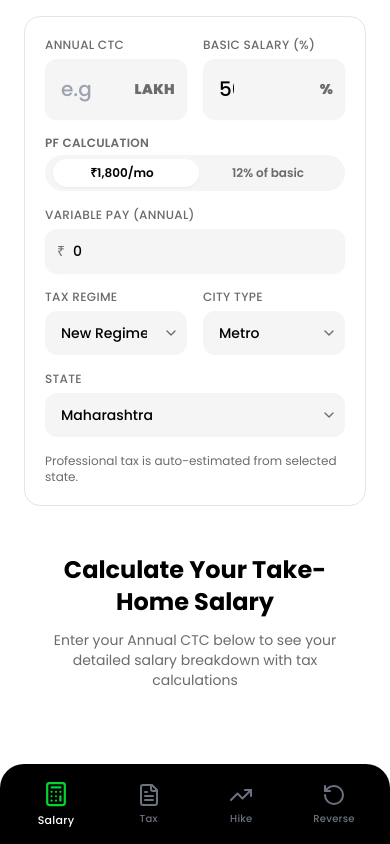
Test: App cross-tab CTC sync › propagates CTC changes from Salary tab to Tax tab and back
Type "12" into the field labelled "Annual CTC" at {"x": 116, "y": 89}, box [45, 59, 187, 119]
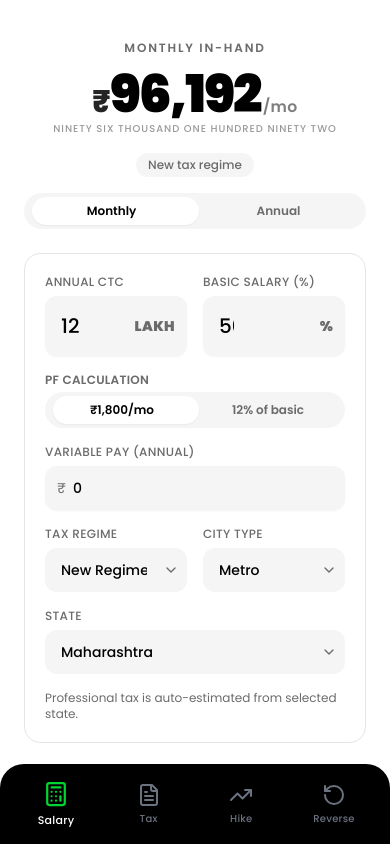
Click the button "Tax" at {"x": 149, "y": 804}, box [117, 782, 181, 826]
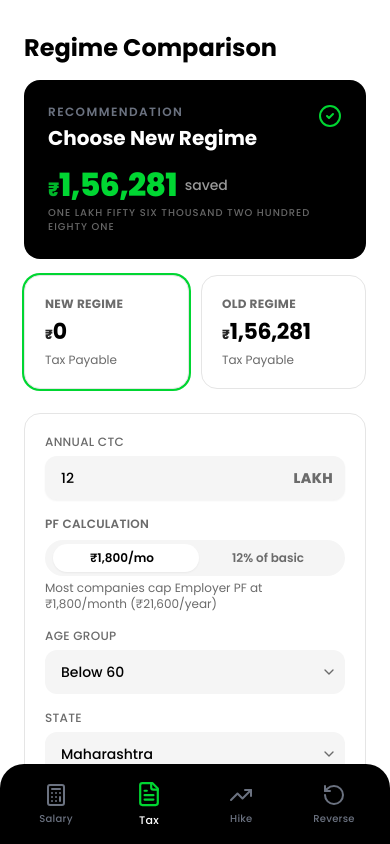
Expected: the field labelled "Annual CTC" holds "12"
Replace the text in the field labelled "Annual CTC" with "18" at {"x": 195, "y": 478}, box [45, 456, 345, 500]
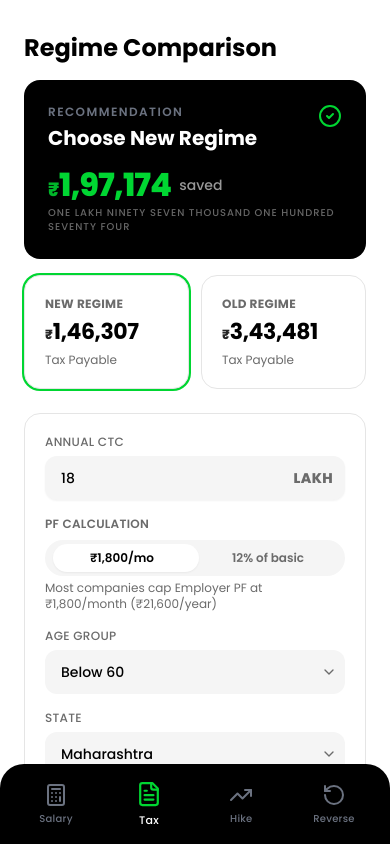
Click the button "Salary" at {"x": 56, "y": 804}, box [24, 782, 88, 826]
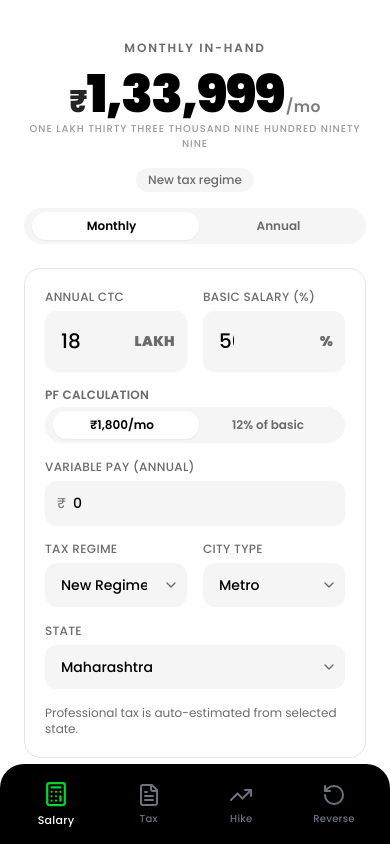
Expected: the field labelled "Annual CTC" holds "18", [45, 311, 187, 371]
